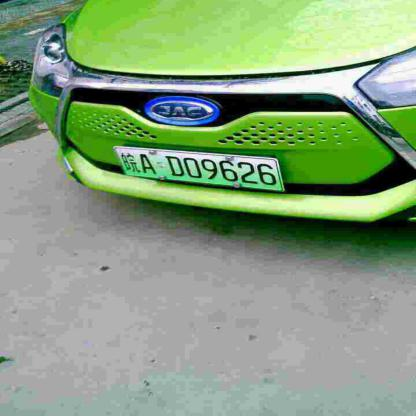lp: (116, 148, 284, 192)
